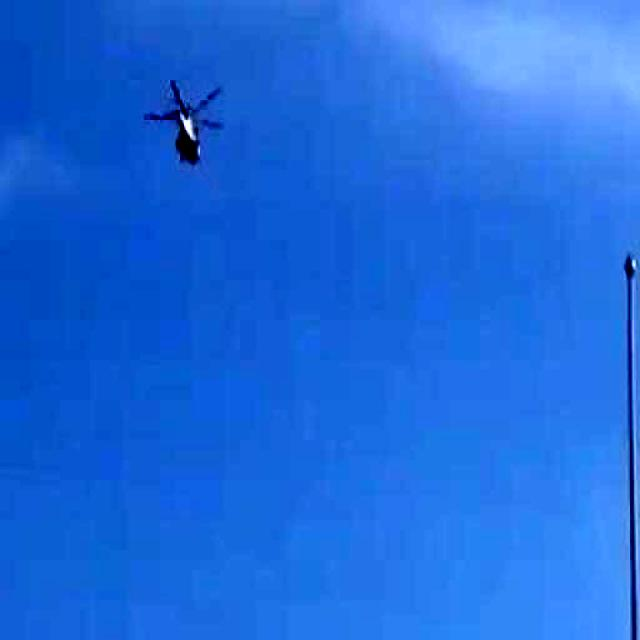drone: (114, 28, 260, 200)
